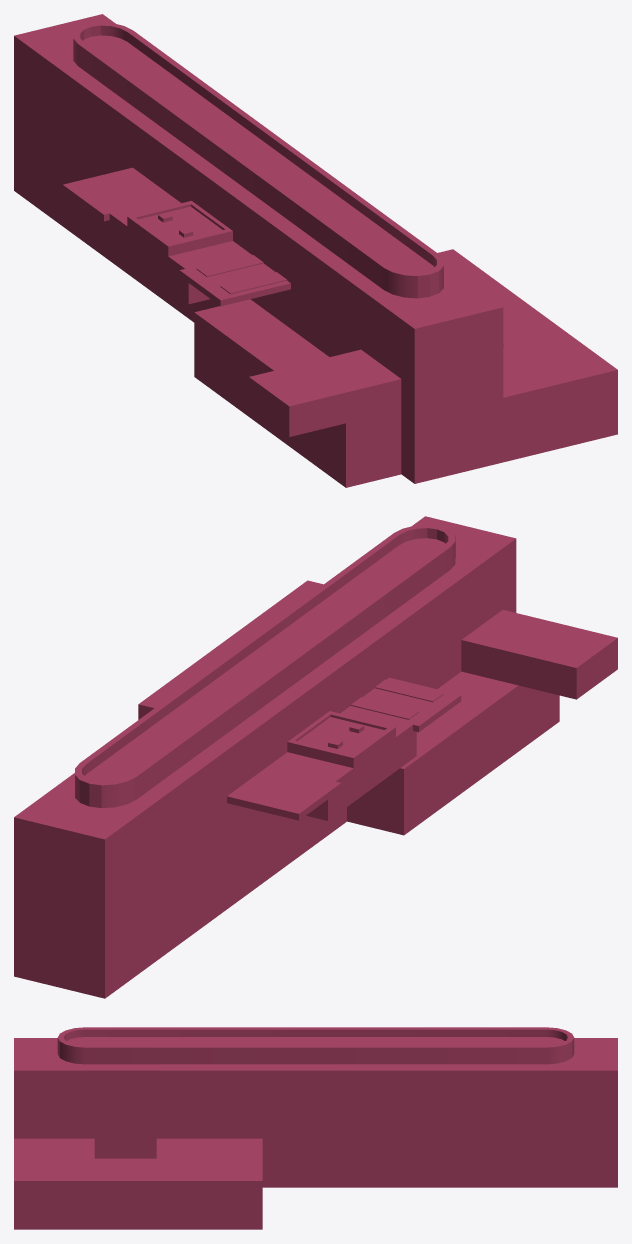
File: SM_City_and_Guilds_Building.fbx
The picture shows the model from 3 angles, top to bottom: view 1: azimuth 30°, elevation 25°; view 2: azimuth 150°, elevation 25°; view 3: azimuth 270°, elevation 25°; orthographic projection. The views are drawn at different scales.
Visible parts, largest first — view 1: SM_City_and_Guilds_Building; view 2: SM_City_and_Guilds_Building; view 3: SM_City_and_Guilds_Building.
Boxes of the visible parts, box(x1,y1,x2,y2) form: SM_City_and_Guilds_Building: box(14, 14, 617, 487); SM_City_and_Guilds_Building: box(14, 516, 617, 998); SM_City_and_Guilds_Building: box(14, 1027, 617, 1229).
Bounding box in the file's own units: 63.57 × 34.15 × 140.
